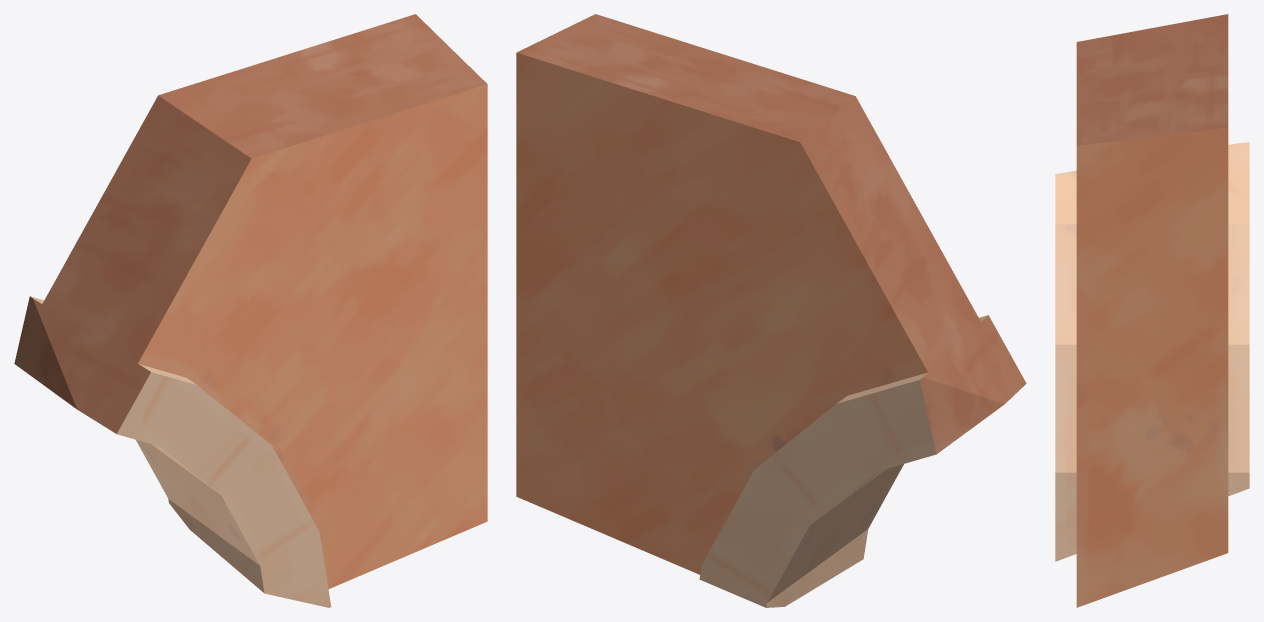
The model's file is wall2_door_s02.fbx.
The picture shows the model from 3 angles, left to right: view 1: azimuth 30°, elevation 25°; view 2: azimuth 150°, elevation 25°; view 3: azimuth 270°, elevation 25°; orthographic projection. The views are drawn at different scales.
Visible parts, largest first — view 1: wall2_door_s02; view 2: wall2_door_s02; view 3: wall2_door_s02.
Boxes of the visible parts, x1,y1,x2,y2 form: wall2_door_s02: (14,14,487,607); wall2_door_s02: (516,14,1026,607); wall2_door_s02: (1055,14,1249,607).
Size of the model in its own units: 3.14 by 3.78 by 1.28.
